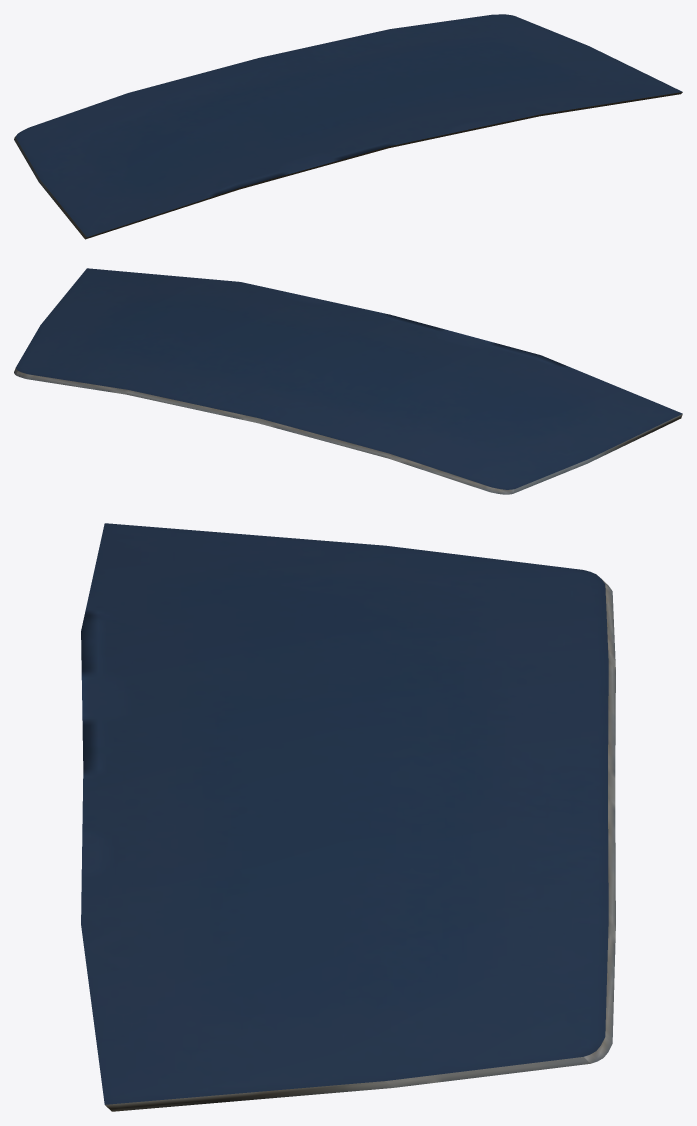
File: CavalierRearWindshield_WorldItem.fbx
The picture shows the model from 3 angles, top to bottom: view 1: azimuth 30°, elevation 25°; view 2: azimuth 150°, elevation 25°; view 3: azimuth 270°, elevation 25°; orthographic projection. The views are drawn at different scales.
Parts seen in each view (by area): view 1: RearWindshield_obj; view 2: RearWindshield_obj; view 3: RearWindshield_obj.
Part boxes in pixels (bbox=[...]): RearWindshield_obj: bbox=[14, 14, 682, 239]; RearWindshield_obj: bbox=[14, 268, 682, 494]; RearWindshield_obj: bbox=[81, 523, 615, 1111].
Bounding box in the file's own units: 1.65 × 0.0729 × 0.6417.
